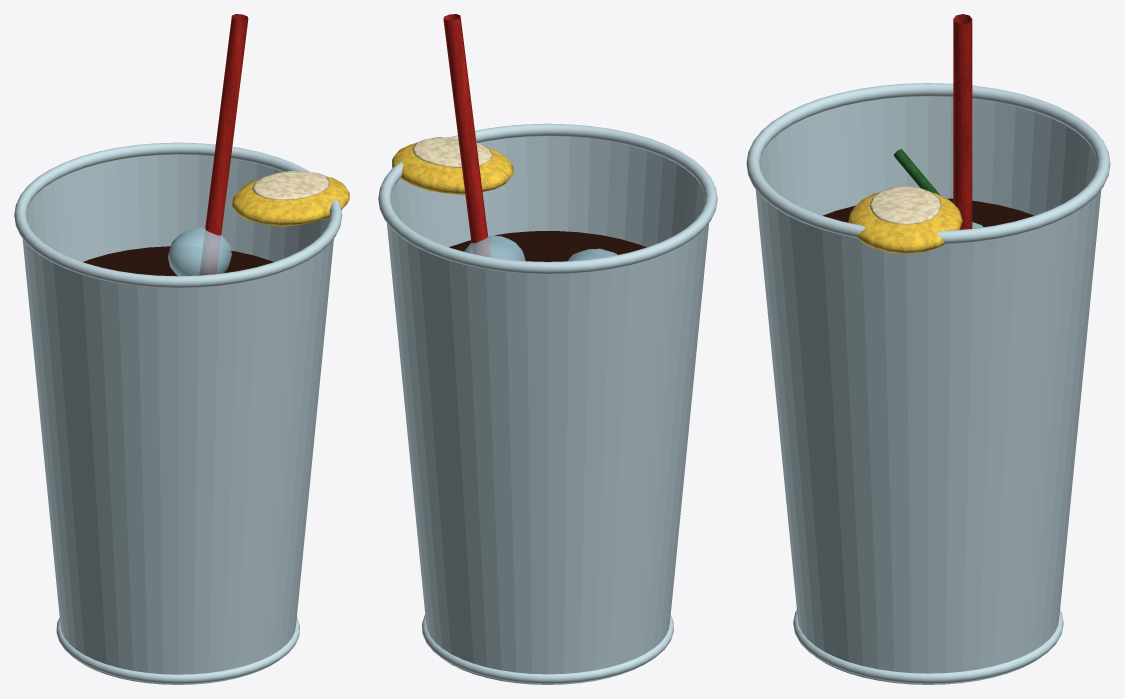
File: gaseosa.glb
3 views of the same model, side by side, from view 1: azimuth 30°, elevation 25°; view 2: azimuth 150°, elevation 25°; view 3: azimuth 270°, elevation 25° (orthographic). The views are drawn at different scales.
Parts seen in each view (by area): view 1: glass, straw, lemon, ice, cola, cream; view 2: glass, straw, lemon, cola, cream, ice; view 3: glass, straw, lemon, cream, cola, leaf.
Boxes of the visible parts, bbox=[...] form: glass: bbox=[14, 142, 342, 684]; straw: bbox=[199, 14, 248, 274]; lemon: bbox=[232, 176, 349, 226]; ice: bbox=[168, 227, 231, 276]; cola: bbox=[83, 246, 273, 276]; cream: bbox=[252, 170, 329, 199]; glass: bbox=[378, 123, 717, 684]; straw: bbox=[443, 14, 490, 256]; lemon: bbox=[392, 142, 513, 194]; cola: bbox=[449, 231, 646, 261]; cream: bbox=[412, 137, 493, 167]; ice: bbox=[464, 235, 617, 261]; glass: bbox=[746, 83, 1110, 684]; straw: bbox=[953, 14, 972, 229]; lemon: bbox=[848, 192, 962, 253]; cream: bbox=[869, 186, 941, 224]; cola: bbox=[823, 198, 1033, 226]; leaf: bbox=[894, 149, 940, 195].
Bounding box in the file's own units: 0.2009 × 0.3787 × 0.191.
7 materials, 7 textured.
